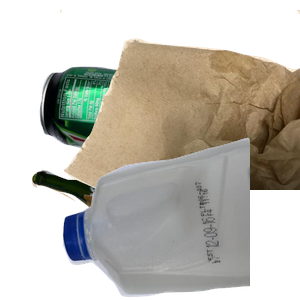glass: (29, 167, 241, 300)
metal: (37, 64, 245, 214)
plastic: (60, 135, 300, 300)
trash: (60, 10, 300, 190)
